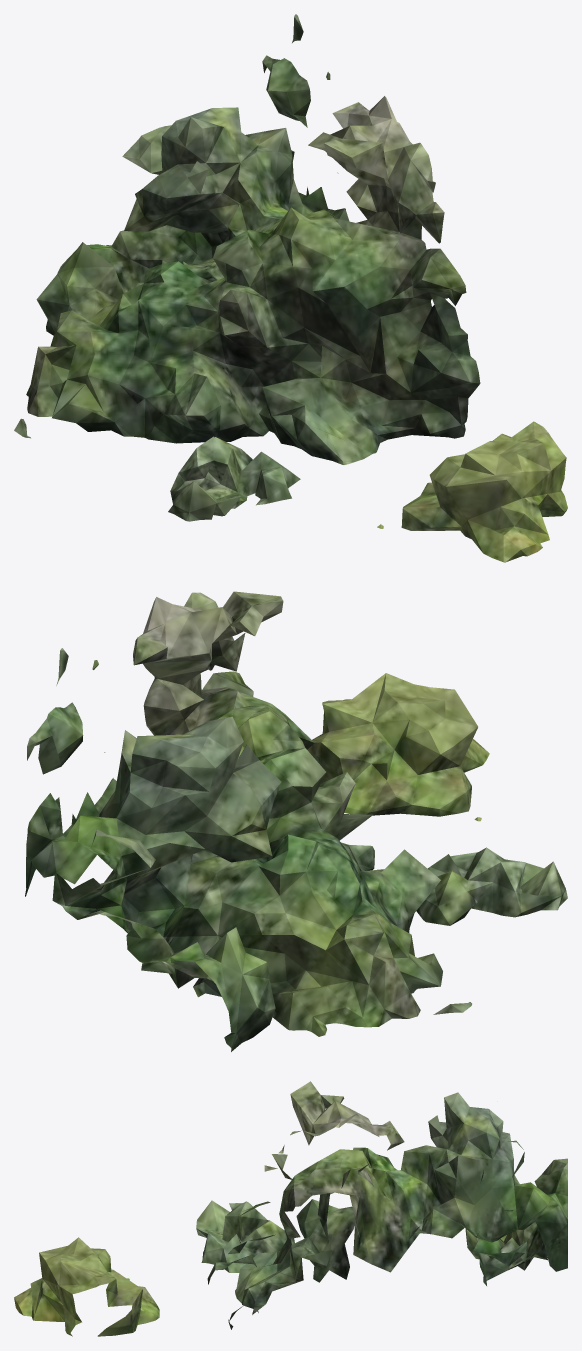
3 views of the same model, one above another, from view 1: azimuth 30°, elevation 25°; view 2: azimuth 150°, elevation 25°; view 3: azimuth 270°, elevation 25° (orthographic). The views are drawn at different scales.
Size of the model in its own units: 24.47 by 21.12 by 45.02.
2 materials, 2 textured.
